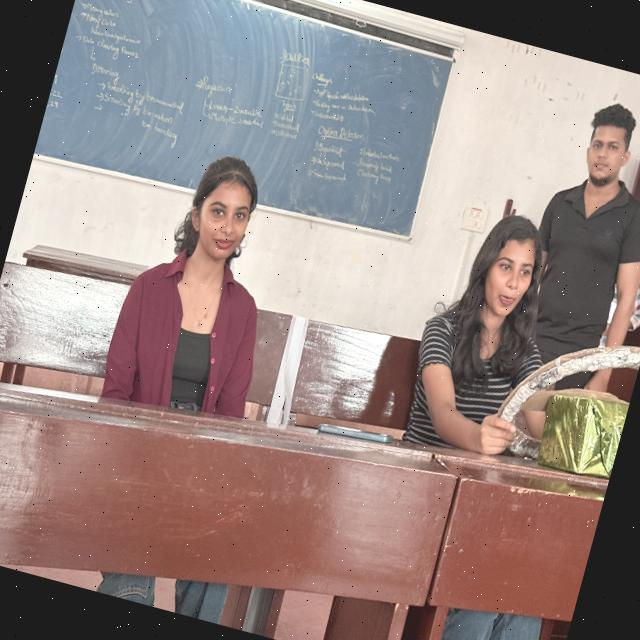Helmet: (86, 212, 304, 466), (378, 264, 590, 508)
